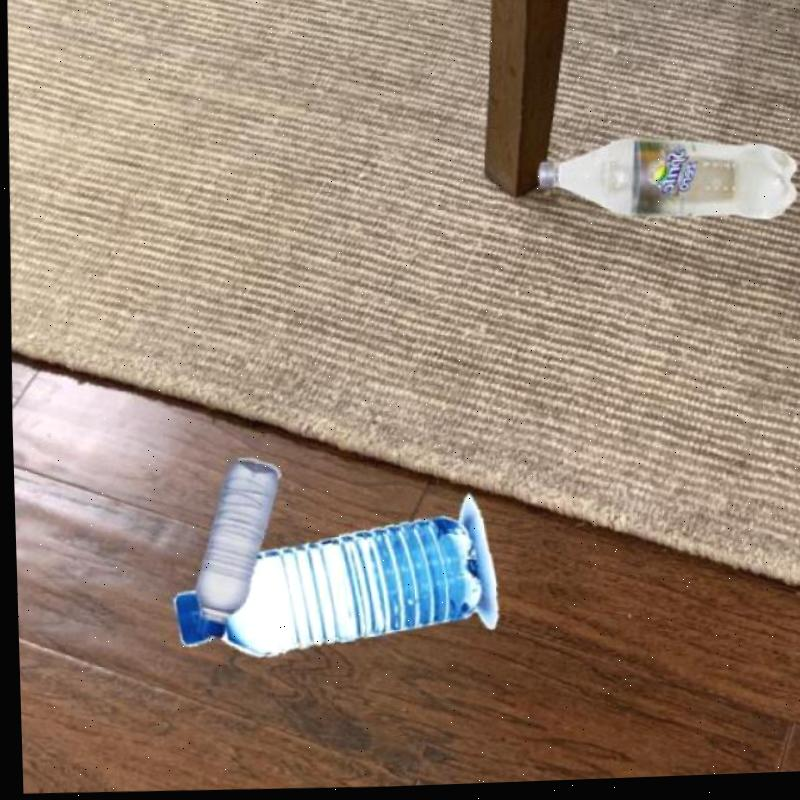botella: (166, 512, 483, 668), (531, 135, 797, 237), (185, 451, 286, 644)
